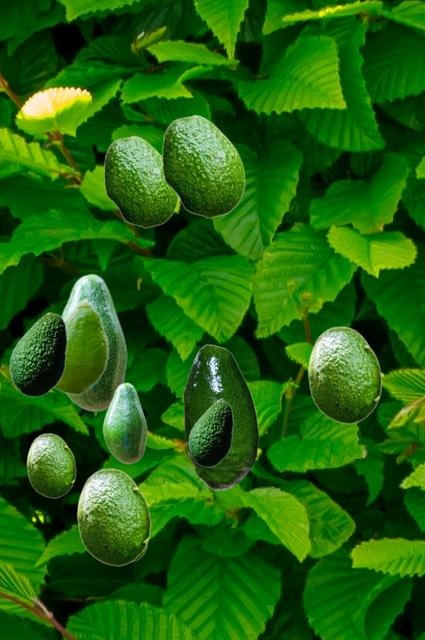avocado: (183, 344, 258, 489), (61, 273, 126, 411), (161, 114, 244, 217), (307, 326, 381, 423), (76, 468, 150, 565), (103, 135, 177, 227), (54, 297, 108, 394), (9, 312, 66, 396), (102, 382, 146, 463), (26, 433, 75, 497), (188, 400, 232, 466), (135, 549, 146, 561)
